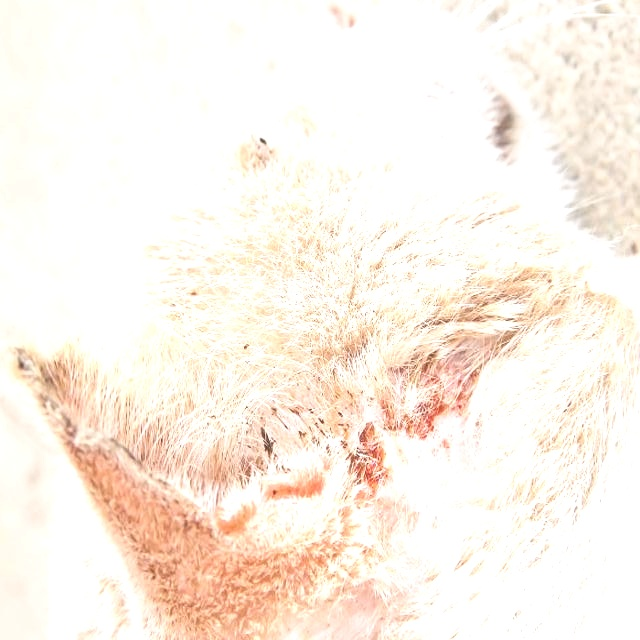ringworm: (261, 355, 495, 497)
